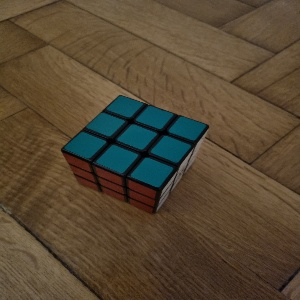cube: (61, 95, 210, 214)
